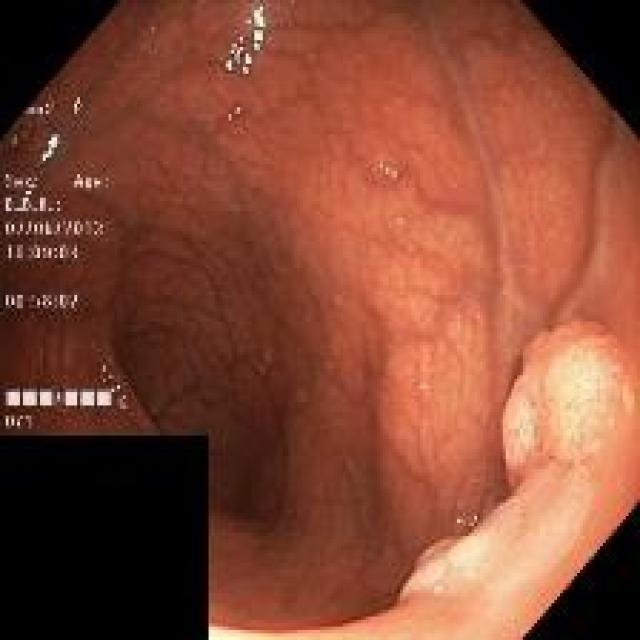Polyps: (212, 318, 640, 640), (502, 321, 635, 486), (396, 539, 458, 606)
